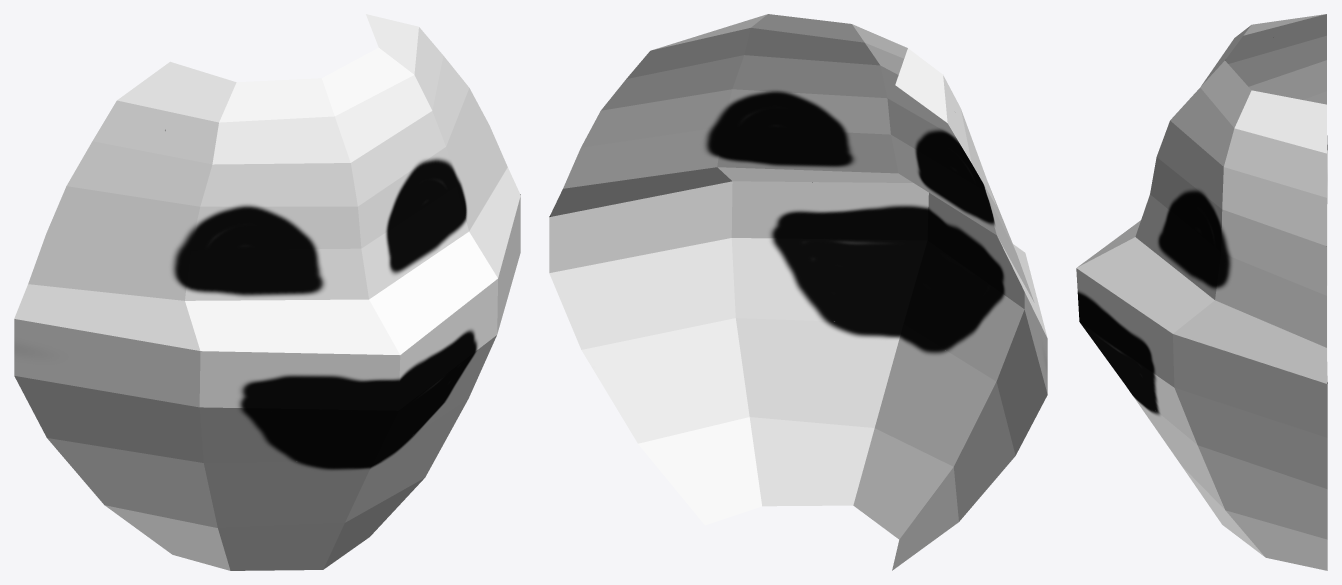
Rendered from ScaredMask2.fbx.
The picture shows the model from 3 angles, left to right: view 1: azimuth 30°, elevation 25°; view 2: azimuth 150°, elevation 25°; view 3: azimuth 270°, elevation 25°; orthographic projection. The views are drawn at different scales.
Visible parts, largest first — view 1: Cube; view 2: Cube; view 3: Cube.
Boxes of the visible parts, x1,y1,x2,y2 form: Cube: (14,14,520,570); Cube: (549,14,1047,570); Cube: (1076,14,1327,570).
Bounding box in the file's own units: 684 × 640 × 311.
1 material, 1 textured.
